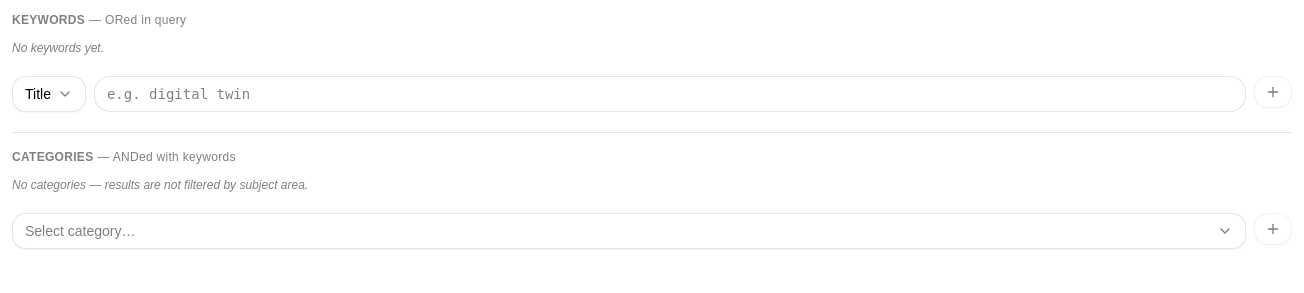
Test: ArxivKeywordManager › shows preview text with serialized keyword while typing
Type "digital twin" into the field at (670, 94), box [94,76,1246,112]
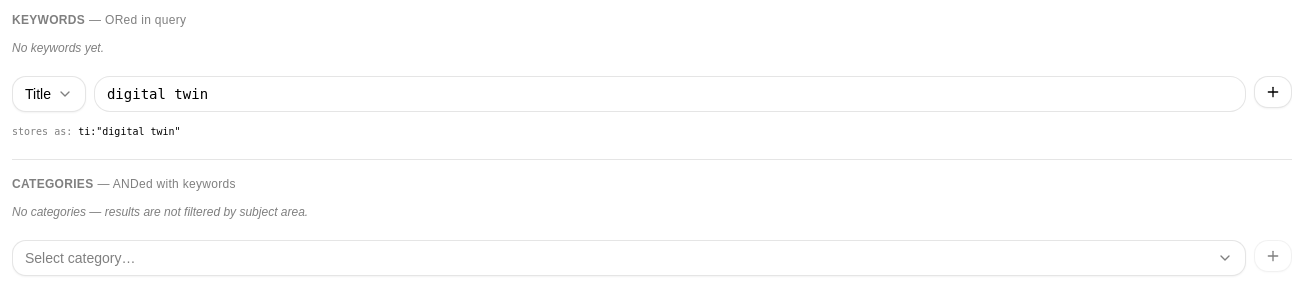
expect the text "ti:\"digital twin\"" is shown: met, box [78,126,181,137]
